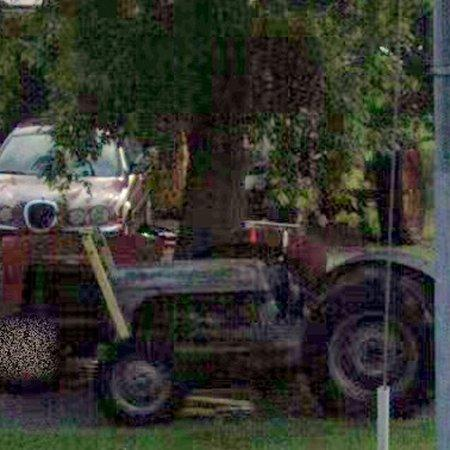tractors: (84, 236, 435, 419)
